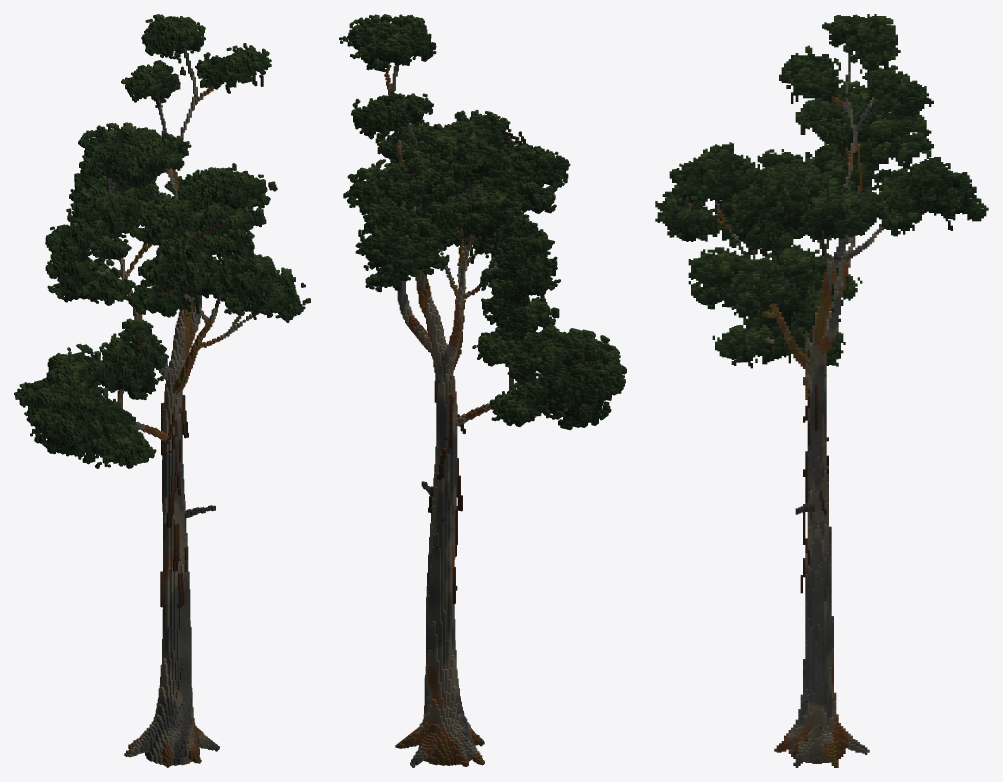
Rendered from eucalipto_alto_01_LOD0.fbx.
3 renders of one model, left to right at view 1: azimuth 30°, elevation 25°; view 2: azimuth 150°, elevation 25°; view 3: azimuth 270°, elevation 25°, orthographic. The views are drawn at different scales.
Parts seen in each view (by area): view 1: eucalipto_alto_01_LOD0; view 2: eucalipto_alto_01_LOD0; view 3: eucalipto_alto_01_LOD0.
Part boxes in pixels (box(x1,y1,x2,y2)): eucalipto_alto_01_LOD0: box(14, 14, 310, 767); eucalipto_alto_01_LOD0: box(339, 14, 626, 767); eucalipto_alto_01_LOD0: box(655, 14, 988, 767).
Bounding box in the file's own units: 806 × 2163 × 875.
